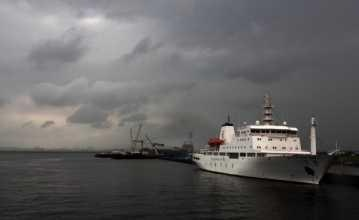otherboat: (194, 92, 328, 185)
